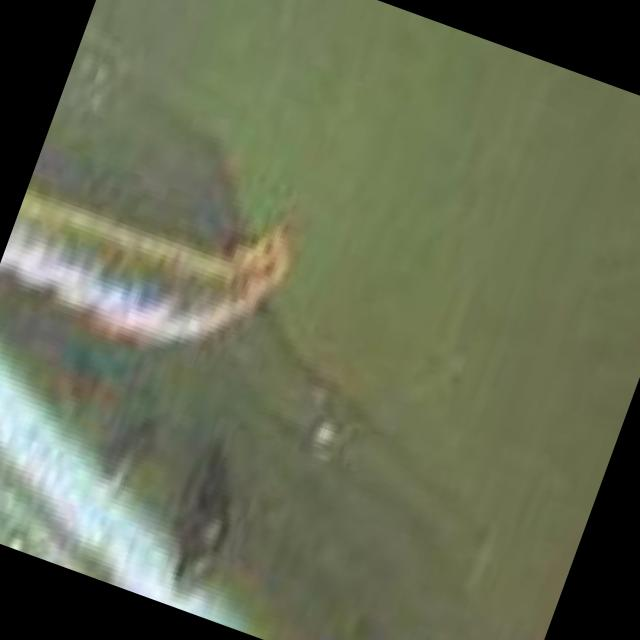leaf-folder: (0, 113, 315, 426)
